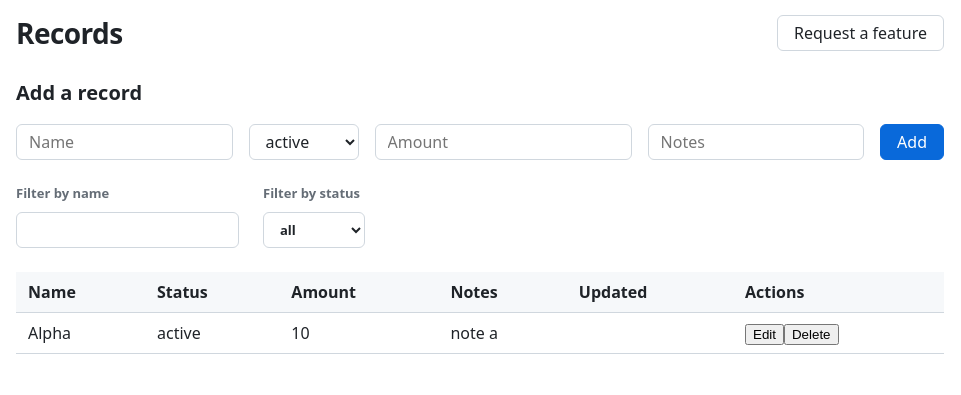
App edit (optimistic-with-rollback) › shows the edited value immediately, before the PATCH resolves, then reconciles with the server record
Expected: the text "Alpha" is shown, [16, 312, 145, 353]
Click the button "Edit".
click(764, 334)  # box [745, 324, 784, 344]
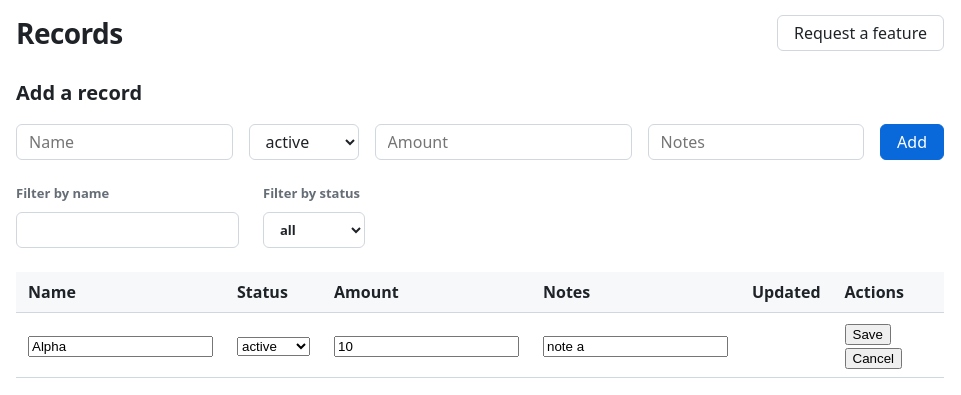
Replace the text in the field named "Name" with "Renamed" at point(120, 346), box [28, 336, 213, 356]
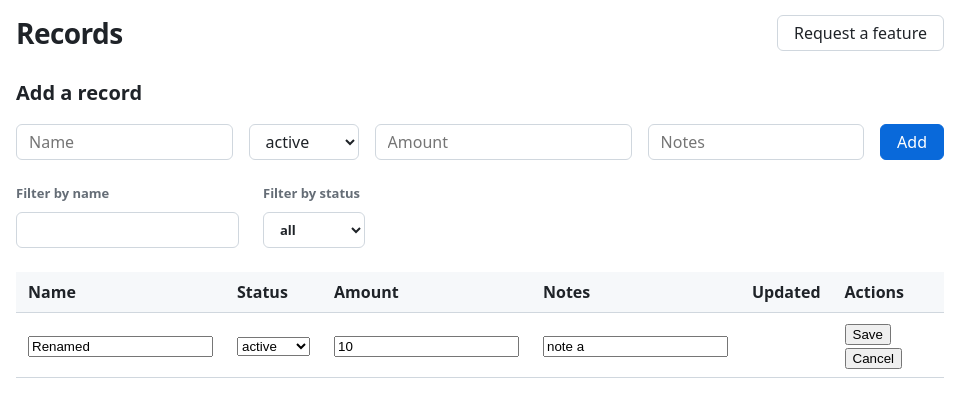
Click the button "Save".
click(868, 334)  # box [844, 324, 891, 344]
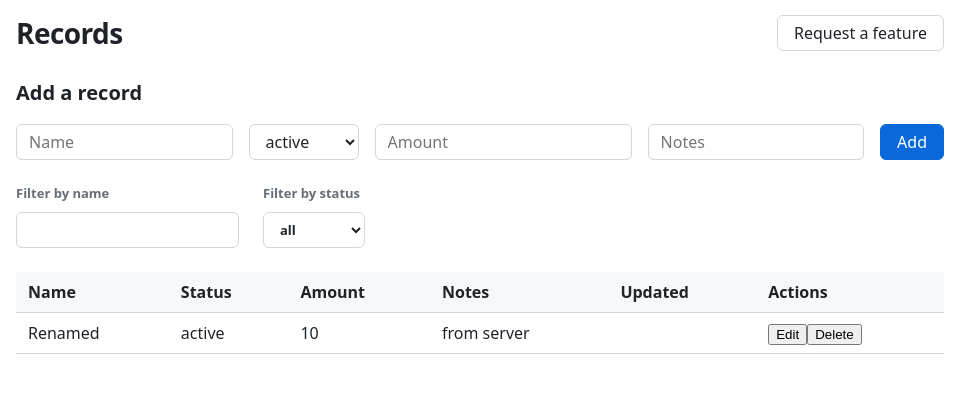
Expected: the text "Renamed" is shown, [16, 312, 169, 353]
Expected: the text "from server" is shown, [430, 312, 608, 353]
